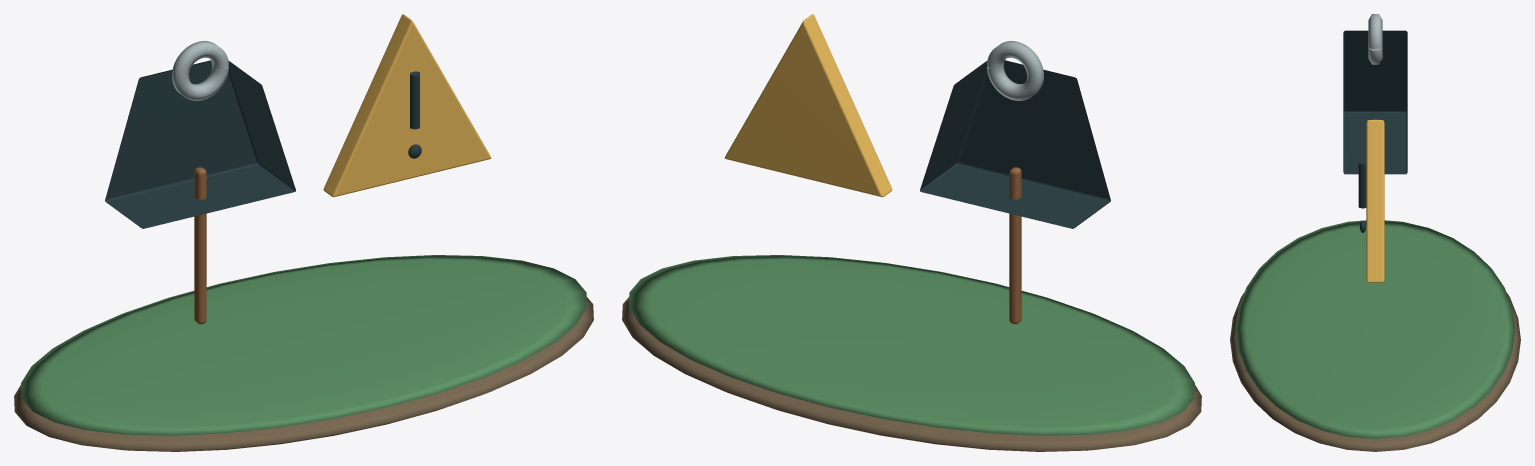
The model's file is complete-second-precarious-danger.glb.
The picture shows the model from 3 angles, left to right: view 1: azimuth 30°, elevation 25°; view 2: azimuth 150°, elevation 25°; view 3: azimuth 270°, elevation 25°; orthographic projection. The views are drawn at different scales.
Parts seen in each view (by area): view 1: complete-second-precarious-danger_surface_01, complete-second-precarious-danger_surface_02, complete-second-precarious-danger_surface_04, complete-second-precarious-danger_surface_00, complete-second-precarious-danger_surface_03, complete-second-precarious-danger_surface_05; view 2: complete-second-precarious-danger_surface_01, complete-second-precarious-danger_surface_02, complete-second-precarious-danger_surface_04, complete-second-precarious-danger_surface_00, complete-second-precarious-danger_surface_03, complete-second-precarious-danger_surface_05; view 3: complete-second-precarious-danger_surface_01, complete-second-precarious-danger_surface_02, complete-second-precarious-danger_surface_00, complete-second-precarious-danger_surface_04, complete-second-precarious-danger_surface_03.
Part boxes in pixels (x1,y1,x2,y2): complete-second-precarious-danger_surface_01: [21, 255, 586, 435]; complete-second-precarious-danger_surface_02: [105, 60, 421, 228]; complete-second-precarious-danger_surface_04: [323, 14, 491, 197]; complete-second-precarious-danger_surface_00: [14, 297, 593, 451]; complete-second-precarious-danger_surface_03: [172, 41, 228, 100]; complete-second-precarious-danger_surface_05: [194, 167, 206, 324]; complete-second-precarious-danger_surface_01: [629, 255, 1194, 435]; complete-second-precarious-danger_surface_02: [920, 60, 1110, 228]; complete-second-precarious-danger_surface_04: [724, 14, 892, 197]; complete-second-precarious-danger_surface_00: [622, 297, 1201, 451]; complete-second-precarious-danger_surface_03: [987, 41, 1043, 100]; complete-second-precarious-danger_surface_05: [1009, 167, 1021, 324]; complete-second-precarious-danger_surface_01: [1236, 220, 1514, 438]; complete-second-precarious-danger_surface_02: [1343, 30, 1407, 232]; complete-second-precarious-danger_surface_00: [1230, 292, 1520, 451]; complete-second-precarious-danger_surface_04: [1366, 120, 1384, 282]; complete-second-precarious-danger_surface_03: [1368, 14, 1382, 64].
Bounding box in the file's own units: 4.56 × 2.8 × 2.5.
